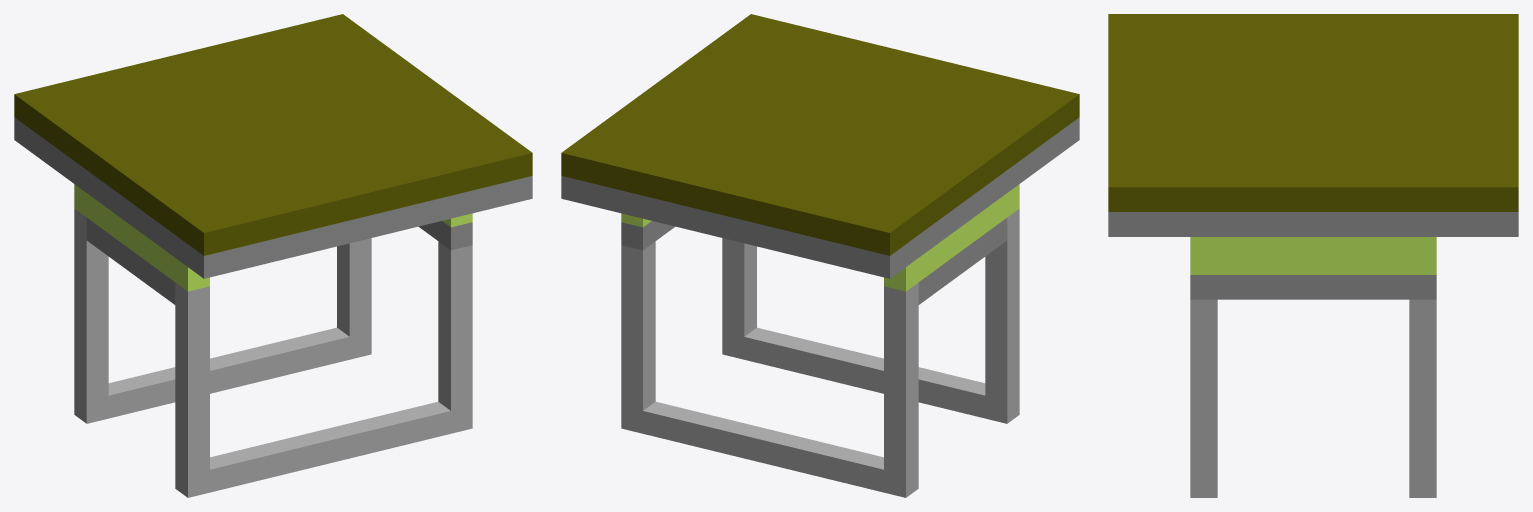
Rendered from Conference End Table 2.obj.
The picture shows the model from 3 angles, left to right: view 1: azimuth 30°, elevation 25°; view 2: azimuth 150°, elevation 25°; view 3: azimuth 270°, elevation 25°; orthographic projection. The views are drawn at different scales.
Bounding box in the file's own units: 15 × 13 × 15.
1 material, 1 textured.
